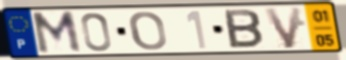0: (79, 11, 114, 53)
1: (185, 10, 208, 50)
B: (222, 8, 265, 50)
M: (29, 9, 84, 56)
O: (127, 10, 169, 52)
V: (262, 6, 305, 51)
